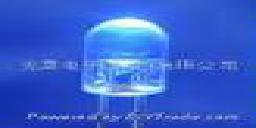LED: (80, 13, 171, 116)
